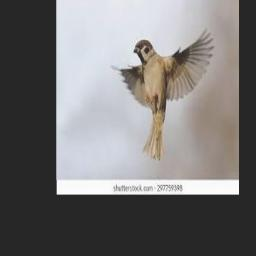Sparrow: (111, 27, 214, 160)
